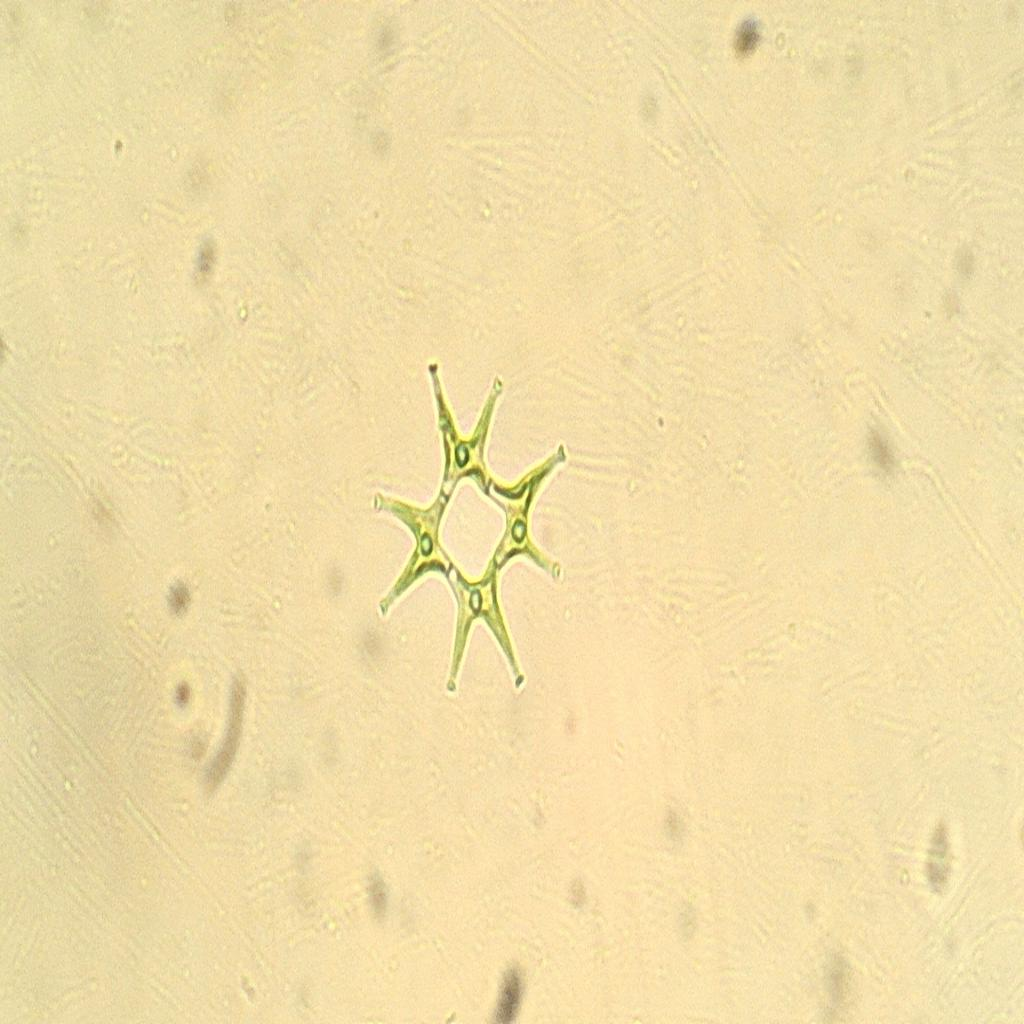Pediastrum_CO: (367, 326, 581, 733)
